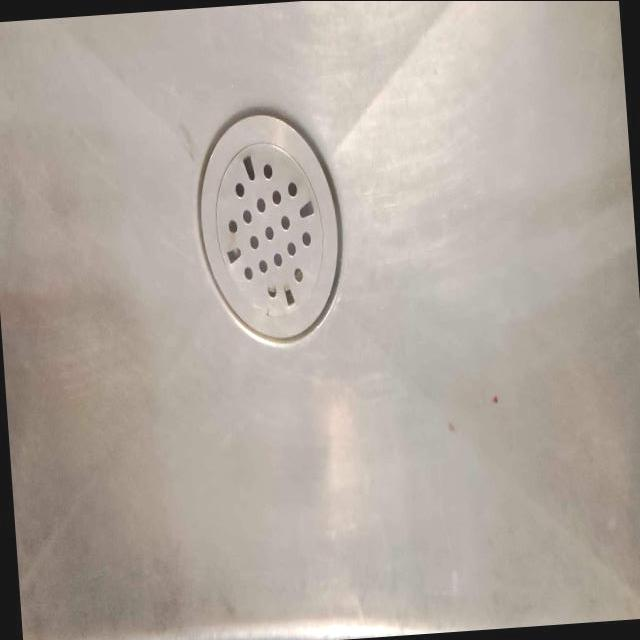Pathological: (1, 3, 637, 638)
Sharps: (194, 113, 343, 347)
